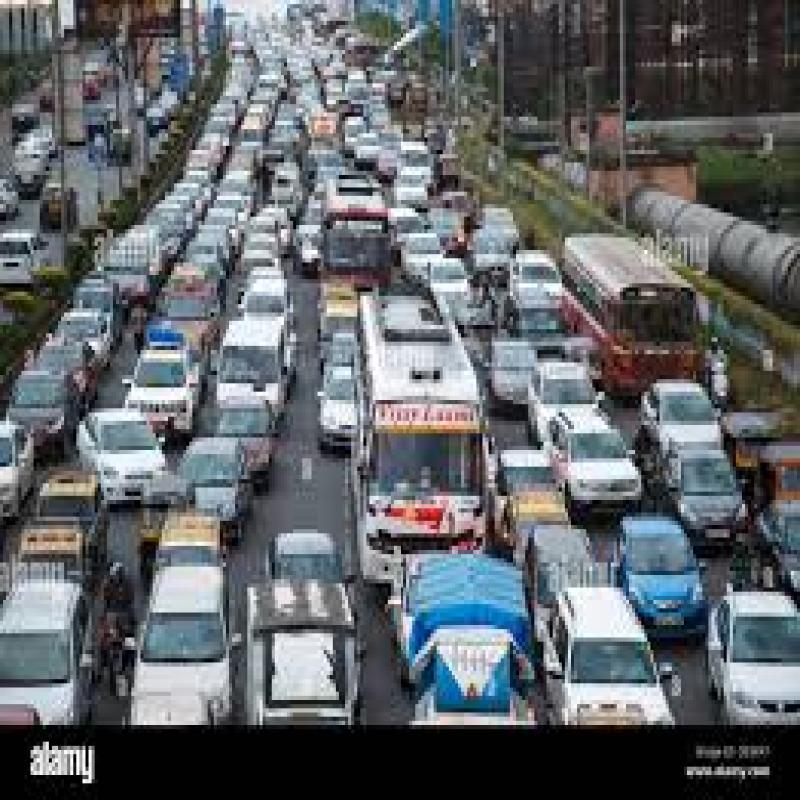bus: (347, 282, 495, 549), (559, 222, 714, 388)
car: (528, 596, 680, 758), (132, 565, 237, 758), (538, 405, 652, 511), (620, 517, 721, 620), (82, 411, 176, 511), (188, 428, 251, 529), (129, 332, 193, 429), (223, 305, 284, 393)
